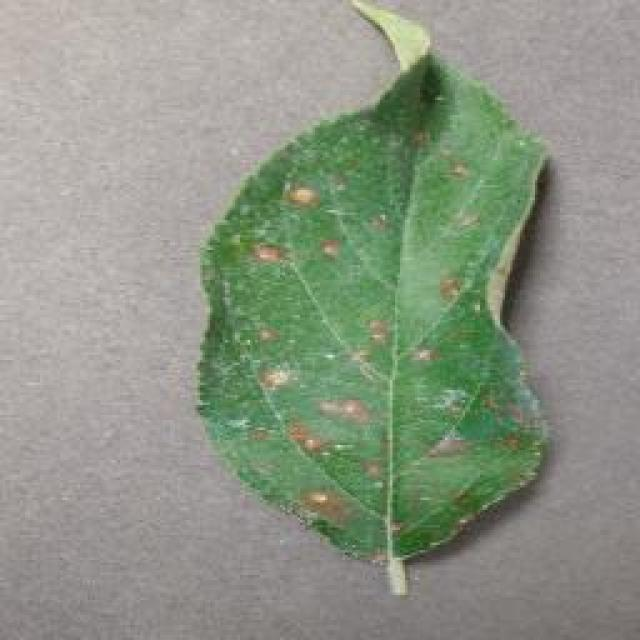apple rust disease: (192, 0, 552, 592)
